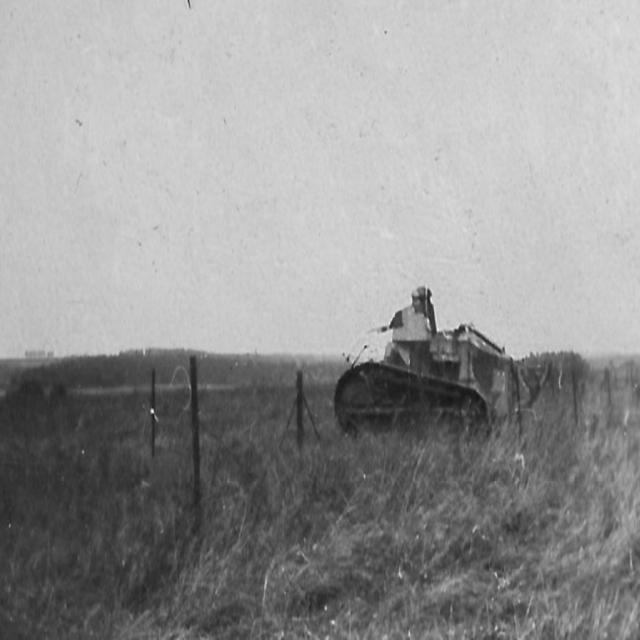tank: (331, 286, 554, 442)
